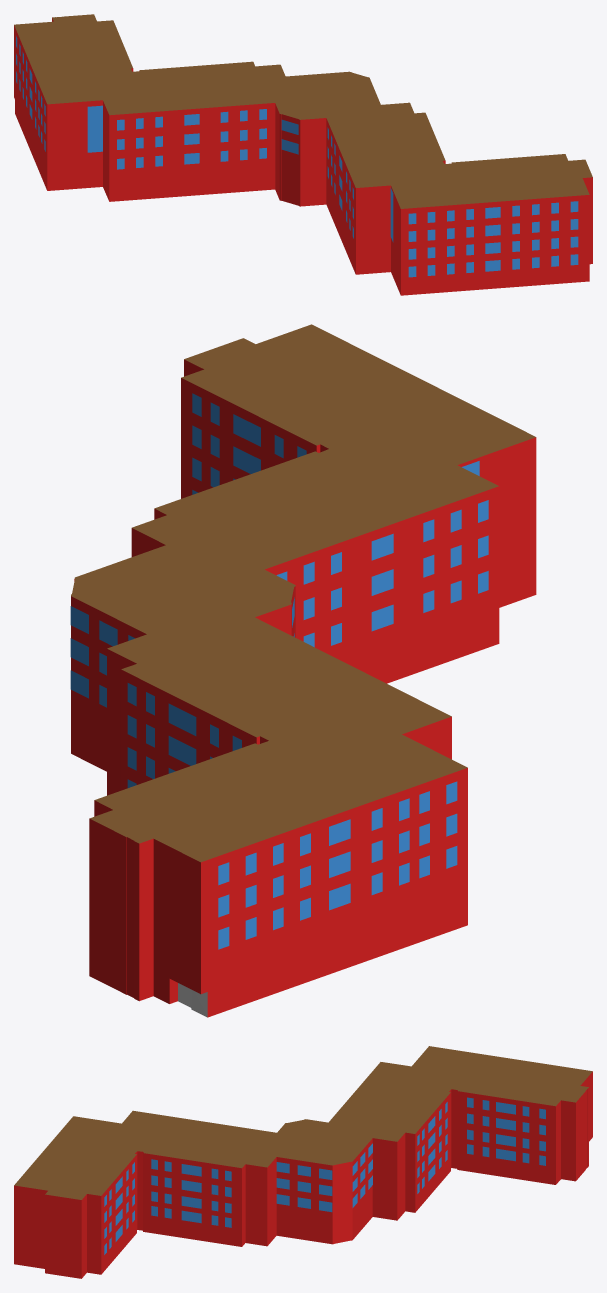
Rendered from PotomacHall.obj.
The picture shows the model from 3 angles, top to bottom: view 1: azimuth 30°, elevation 25°; view 2: azimuth 150°, elevation 25°; view 3: azimuth 270°, elevation 25°; orthographic projection. The views are drawn at different scales.
Parts seen in each view (by area): view 1: SM_Potomac_Bldg, SM_Potomac_Wndws; view 2: SM_Potomac_Bldg, SM_Potomac_Wndws; view 3: SM_Potomac_Bldg, SM_Potomac_Wndws.
Part boxes in pixels (x1,y1,x2,y2): SM_Potomac_Bldg: (14,14,592,295); SM_Potomac_Wndws: (16,36,578,277); SM_Potomac_Bldg: (71,324,536,1017); SM_Potomac_Wndws: (70,393,488,949); SM_Potomac_Bldg: (14,1046,592,1278); SM_Potomac_Wndws: (104,1097,545,1254).
Size of the model in its own units: 6258 by 1493 by 9937.
